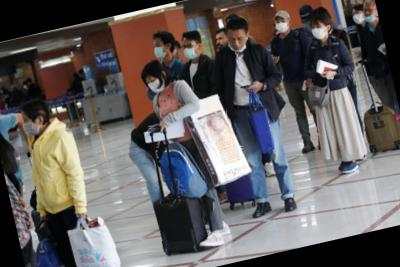mask_weared_incorrect: (228, 31, 249, 56), (363, 4, 380, 25)
with_mask: (20, 112, 41, 140), (181, 37, 202, 62), (145, 73, 166, 96), (273, 17, 292, 37), (311, 21, 328, 41), (153, 40, 169, 61), (352, 9, 368, 26)
without_mask: (214, 32, 231, 51)
